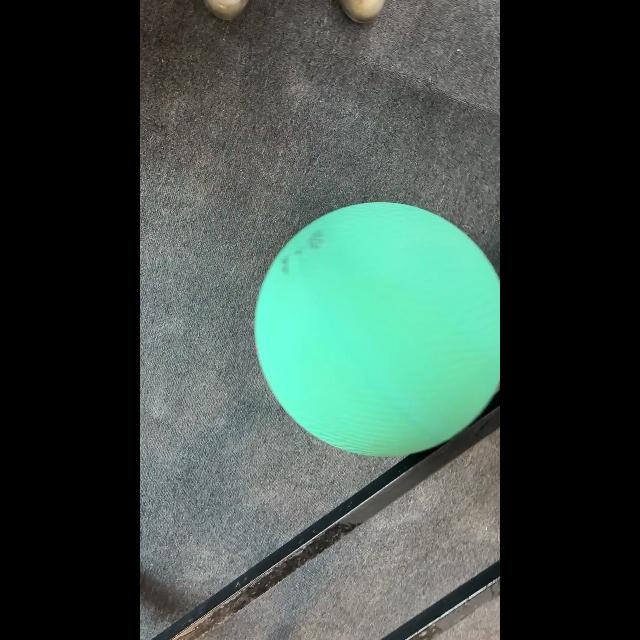ALGAE: (253, 202, 499, 458)
